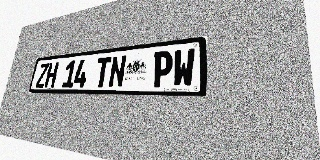1: (62, 60, 77, 88)
4: (73, 59, 89, 88)
H: (44, 62, 59, 88)
N: (108, 55, 127, 87)
P: (151, 50, 173, 87)
T: (94, 57, 112, 88)
W: (172, 48, 195, 87)
Z: (35, 63, 49, 88)
